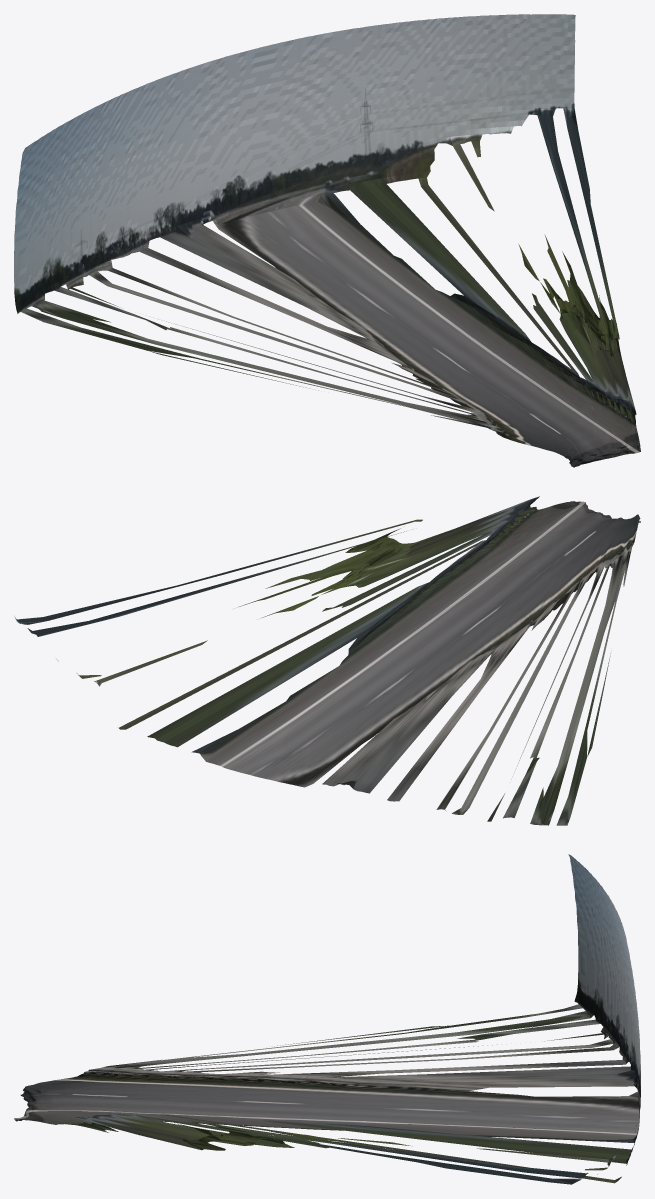
The picture shows the model from 3 angles, top to bottom: view 1: azimuth 30°, elevation 25°; view 2: azimuth 150°, elevation 25°; view 3: azimuth 270°, elevation 25°; orthographic projection. The views are drawn at different scales.
Parts seen in each view (by area): view 1: defaultobject; view 2: defaultobject; view 3: defaultobject.
Boxes of the visible parts, bbox=[...] form: defaultobject: bbox=[14, 14, 640, 467]; defaultobject: bbox=[14, 496, 640, 825]; defaultobject: bbox=[14, 854, 640, 1184].
Bounding box in the file's own units: 41.12 × 12.89 × 44.76.
Materials: 1 (1 with a texture image).
